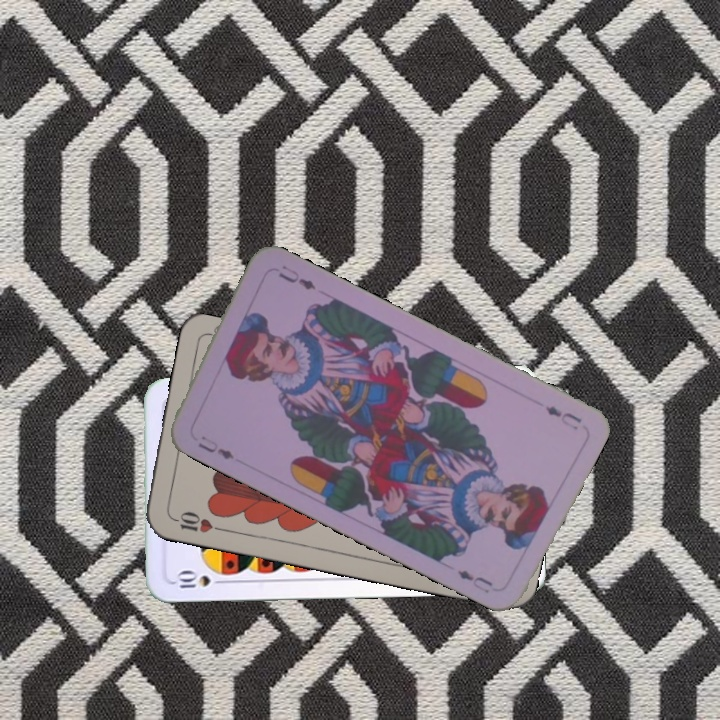EU: (541, 401, 585, 433), (193, 432, 237, 462)
H10: (167, 507, 226, 535)
S10: (170, 568, 229, 591)
